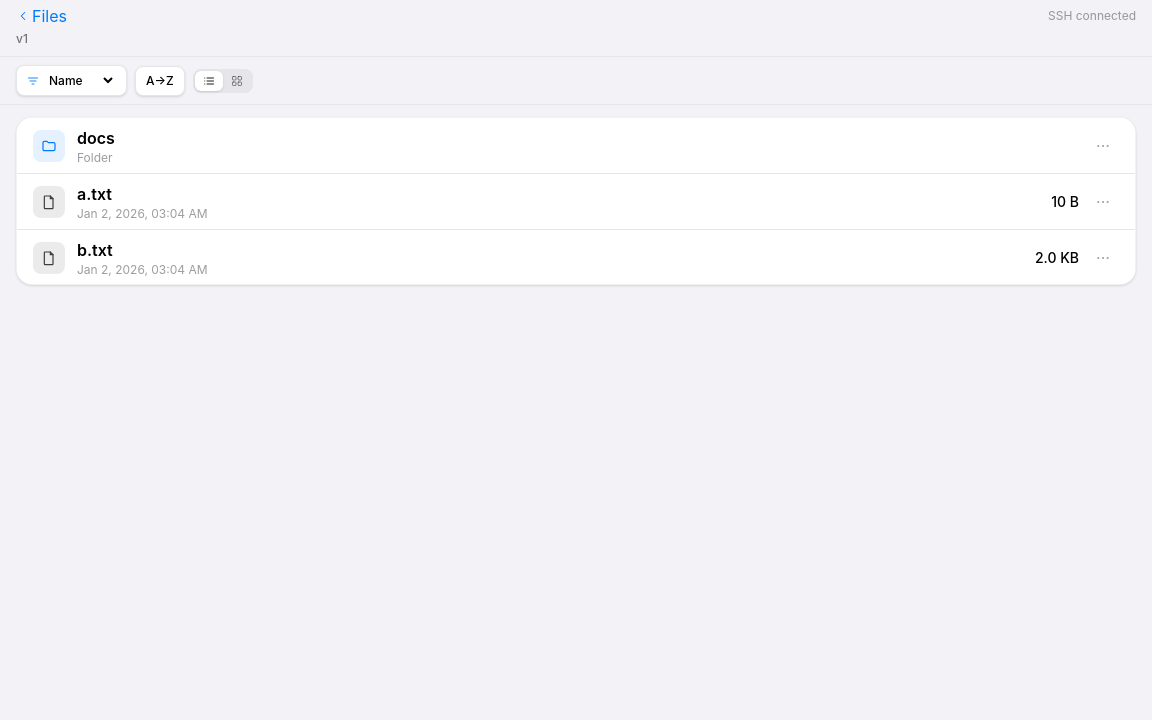
Test: downloads, media, and preview › offers no Copy public link on a non-public vdir
Expected: the element with test id "entry-0" is shown, [17,118,1135,174]
Click the 2nd button with test id "entry-actions" at x=1103, y=202, box [1087,186,1119,218]
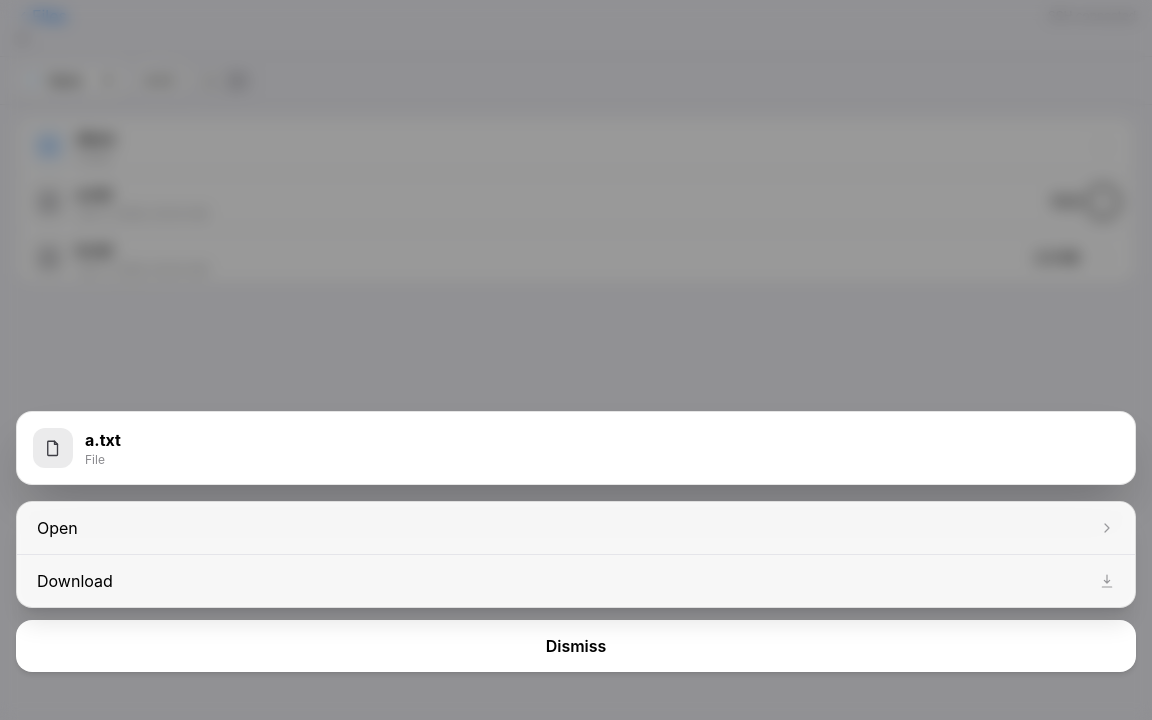
Expected: the element with test id "context-menu" is shown, [16,501,1136,608]
